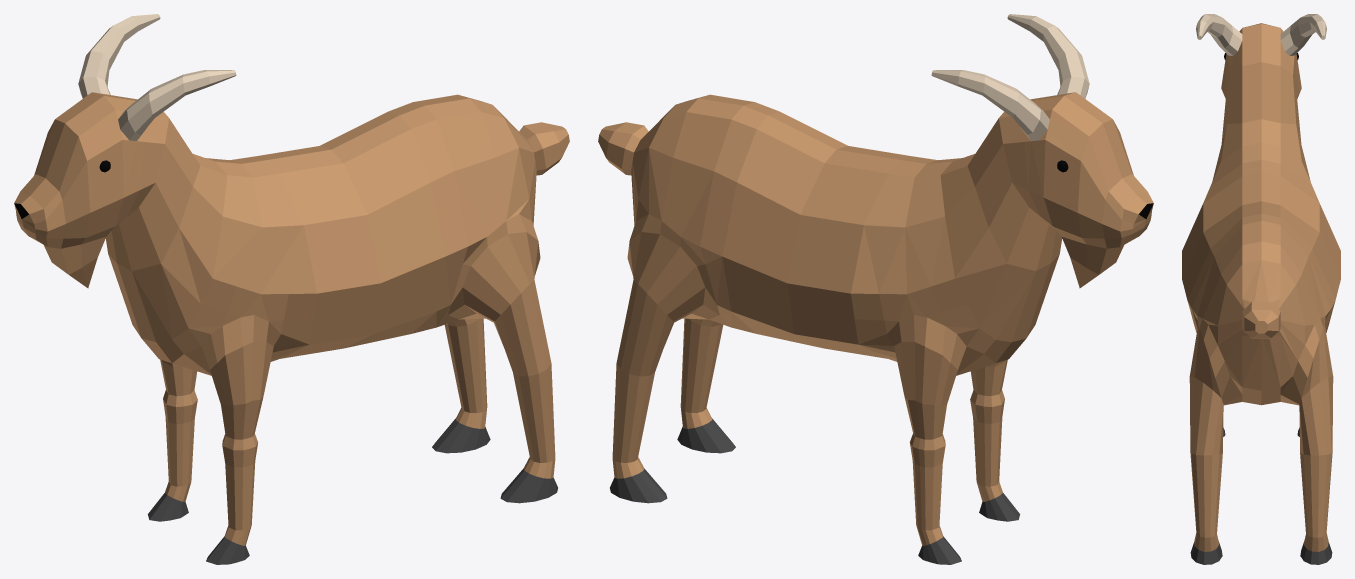
File: low-poly_goat.glb
The picture shows the model from 3 angles, left to right: view 1: azimuth 30°, elevation 25°; view 2: azimuth 150°, elevation 25°; view 3: azimuth 270°, elevation 25°; orthographic projection. The views are drawn at different scales.
Parts seen in each view (by area): view 1: Plane; view 2: Plane; view 3: Plane.
Part boxes in pixels (box(x1,y1,x2,y2)): Plane: box(14, 14, 569, 564); Plane: box(598, 14, 1153, 564); Plane: box(1182, 14, 1340, 564).
Bounding box in the file's own units: 7.97 × 7.03 × 2.49.
